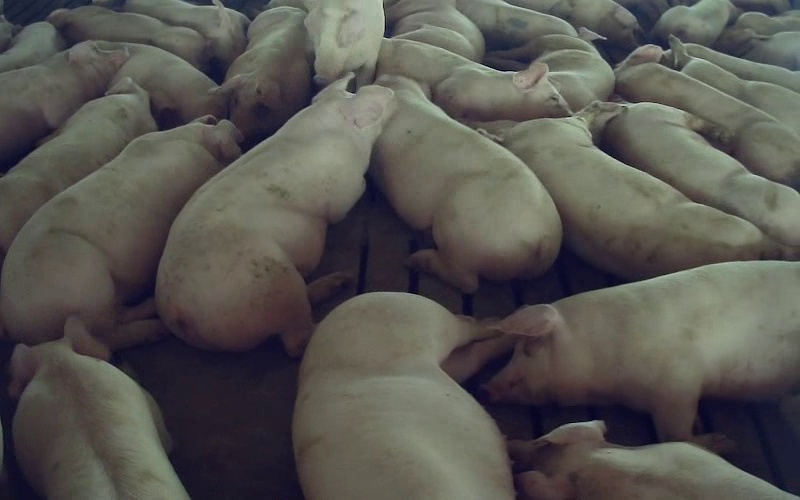pig: (156, 76, 394, 354), (486, 262, 799, 453), (0, 116, 241, 349), (465, 102, 762, 279), (293, 293, 513, 499), (370, 75, 561, 292), (10, 318, 188, 499), (0, 78, 156, 262), (615, 46, 799, 189), (508, 421, 799, 499), (0, 41, 128, 170), (377, 39, 571, 120), (670, 36, 799, 133), (222, 6, 312, 144), (97, 41, 226, 129), (485, 27, 614, 111), (47, 6, 208, 71), (123, 0, 249, 71), (304, 0, 384, 87), (507, 0, 640, 50), (384, 0, 484, 62), (456, 0, 577, 50)
